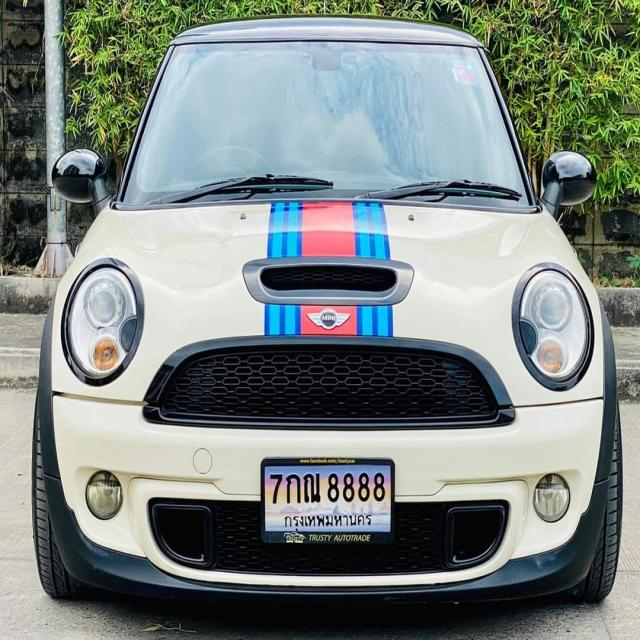license_plate: (259, 456, 395, 546)
